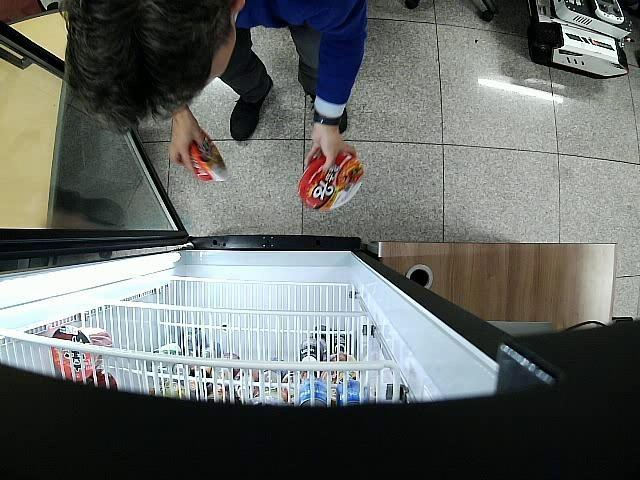10_wangTtukkeong: (300, 153, 363, 211), (189, 126, 228, 183)
